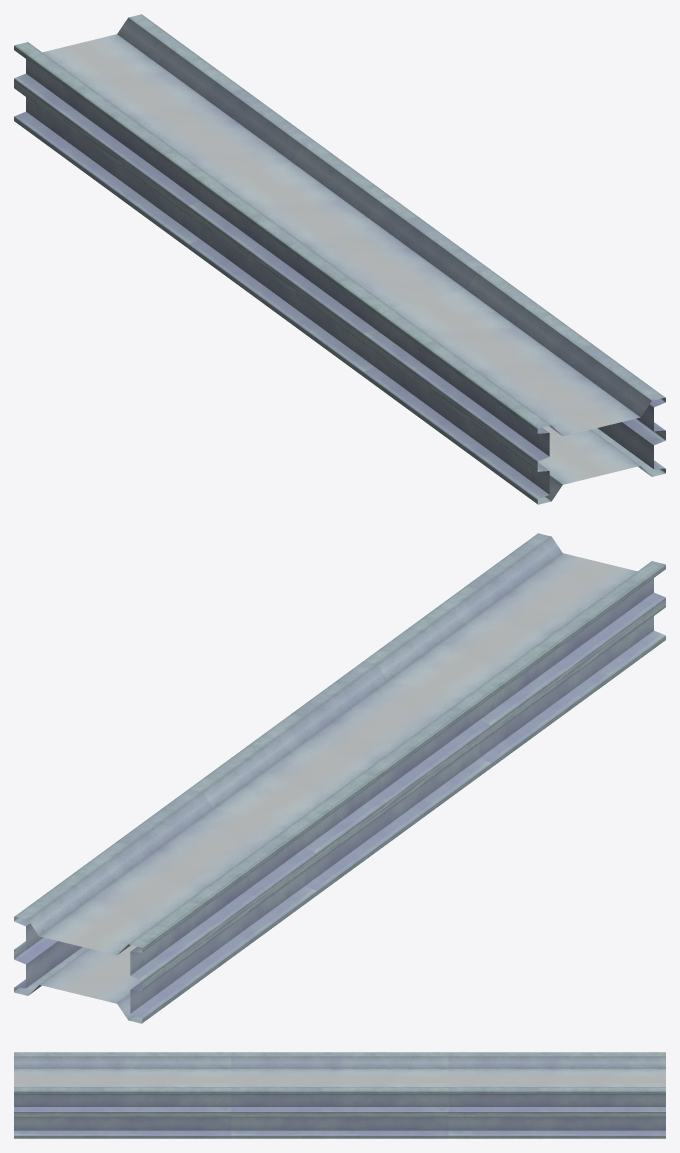
The model's file is train-track-01.glb.
3 views of the same model, one above another, from view 1: azimuth 30°, elevation 25°; view 2: azimuth 150°, elevation 25°; view 3: azimuth 270°, elevation 25° (orthographic). The views are drawn at different scales.
Visible parts, largest first — view 1: Train_Track_01; view 2: Train_Track_01; view 3: Train_Track_01.
Boxes of the visible parts, box(x1,y1,x2,y2) form: Train_Track_01: box(14, 14, 665, 504); Train_Track_01: box(14, 533, 665, 1023); Train_Track_01: box(14, 1052, 665, 1138).
Size of the model in its own units: 2.26 by 1.28 by 16.
1 material, 1 textured.
